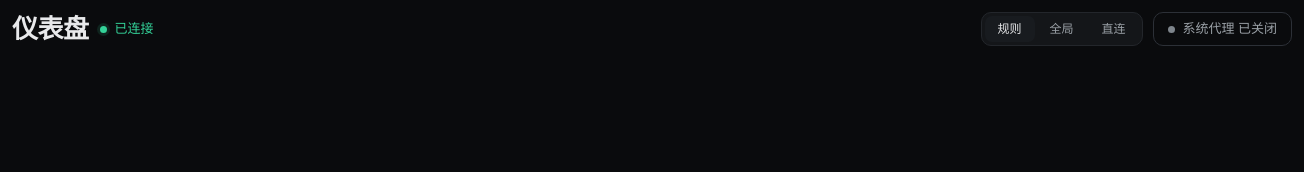
Test: TopBar › 代理切换失败时显示错误
The width and height of the screenshot is (1304, 172).
Click the button "系统代理 已关闭": point(1222, 29) [1153,12,1292,46]
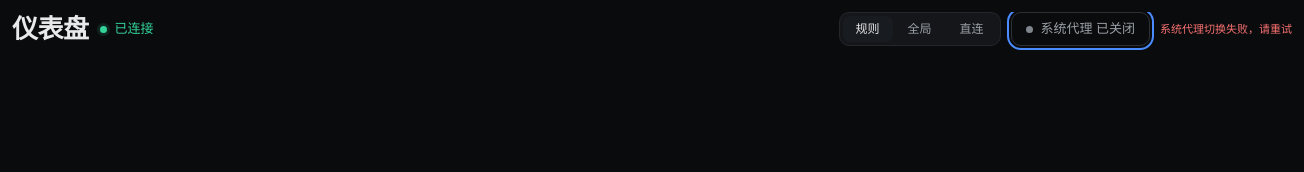
Check: the text "系统代理切换失败，请重试" is shown, box [1160,21,1292,37]
